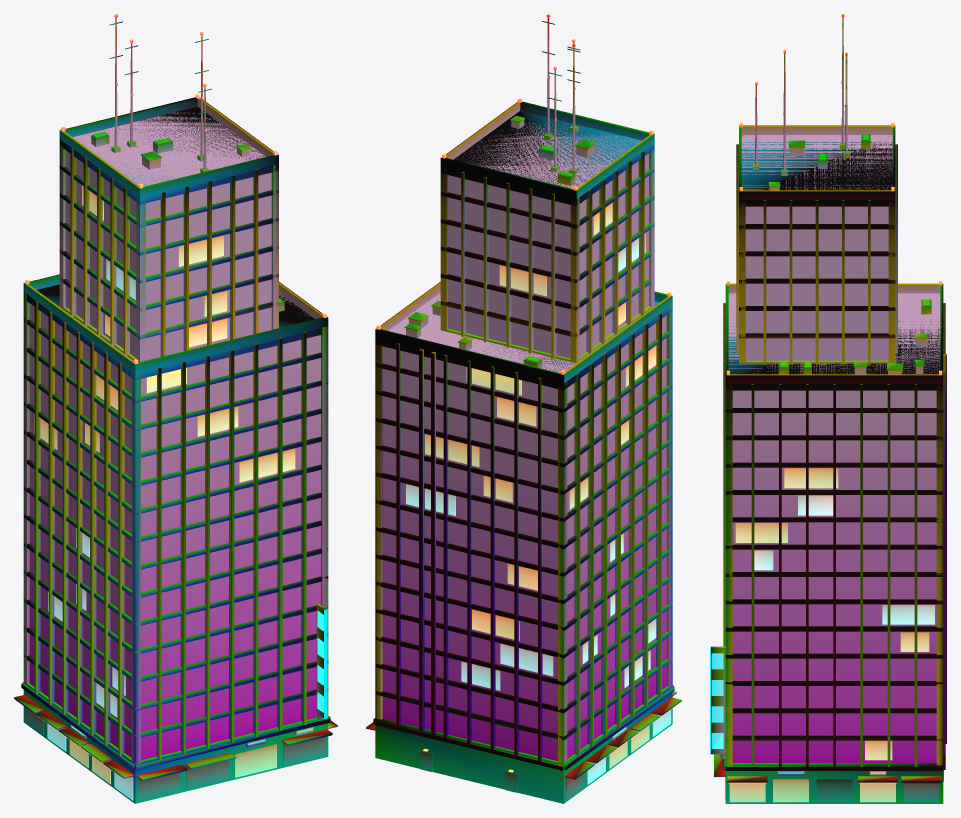
File: Tower_Mast.fbx
3 renders of one model, left to right at view 1: azimuth 30°, elevation 25°; view 2: azimuth 150°, elevation 25°; view 3: azimuth 270°, elevation 25°, orthographic. The views are drawn at different scales.
Visible parts, largest first — view 1: Tower_Mast_LOD0; view 2: Tower_Mast_LOD0; view 3: Tower_Mast_LOD0.
Boxes of the visible parts, left/top/right/bottom form: Tower_Mast_LOD0: left=14, top=14, right=337, bottom=803; Tower_Mast_LOD0: left=366, top=14, right=681, bottom=803; Tower_Mast_LOD0: left=710, top=14, right=946, bottom=803.
Size of what is drawn, in the model's own units: 28.8 by 94.58 by 28.31.
